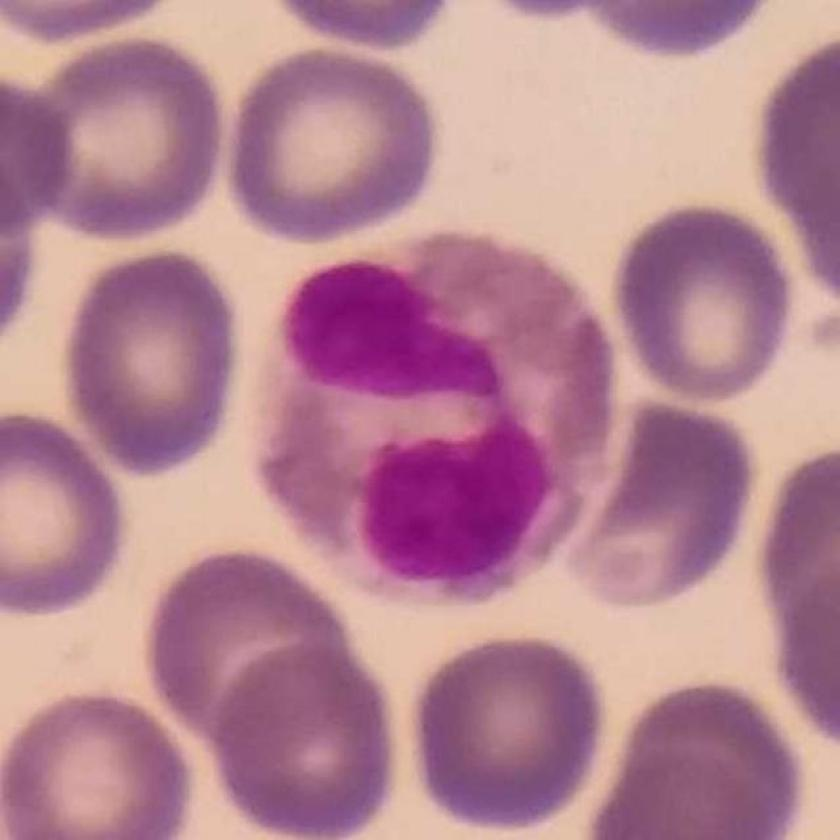eosinophil: (249, 226, 622, 604)
